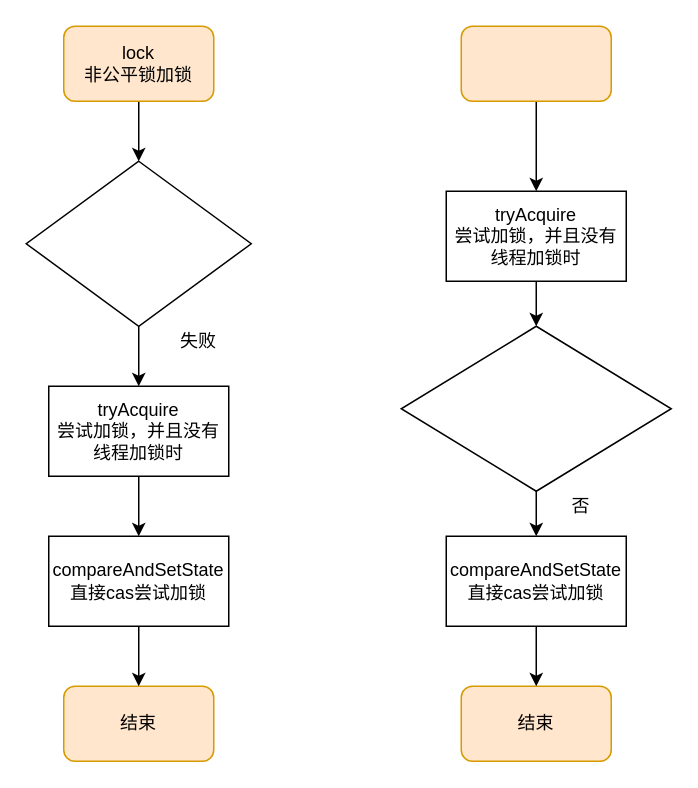
Some shapes in this 698 by 788 pixel diagram are drawn without their labels. The centre of each missing label's shape, as x and y in pixels:
"compareAndSetState 尝试获取锁" belongs at (138,243).
"hasQueuedPredecessors 是否需要排队" belongs at (535,408).
"lock 公平锁加锁" belongs at (535,63).
